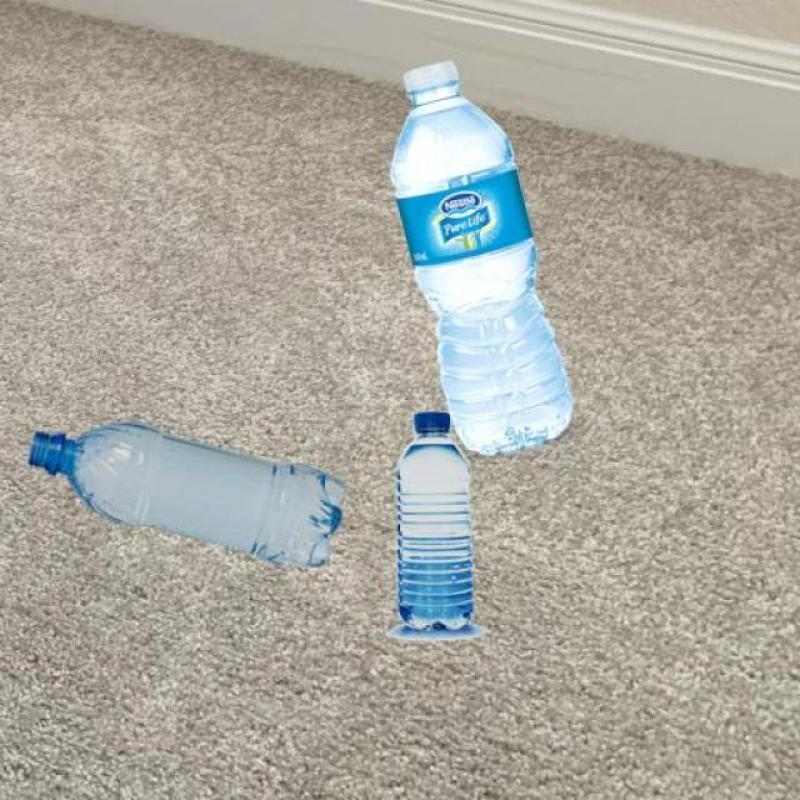botella: (391, 56, 574, 456), (31, 428, 347, 570), (392, 409, 473, 631)
